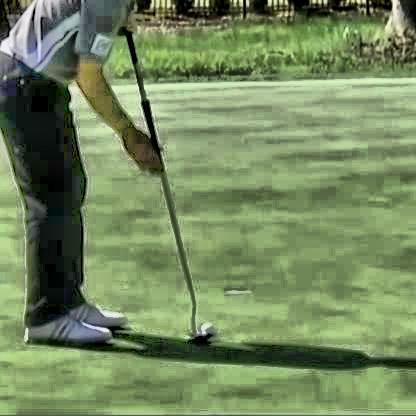golfball: (199, 320, 215, 333)
